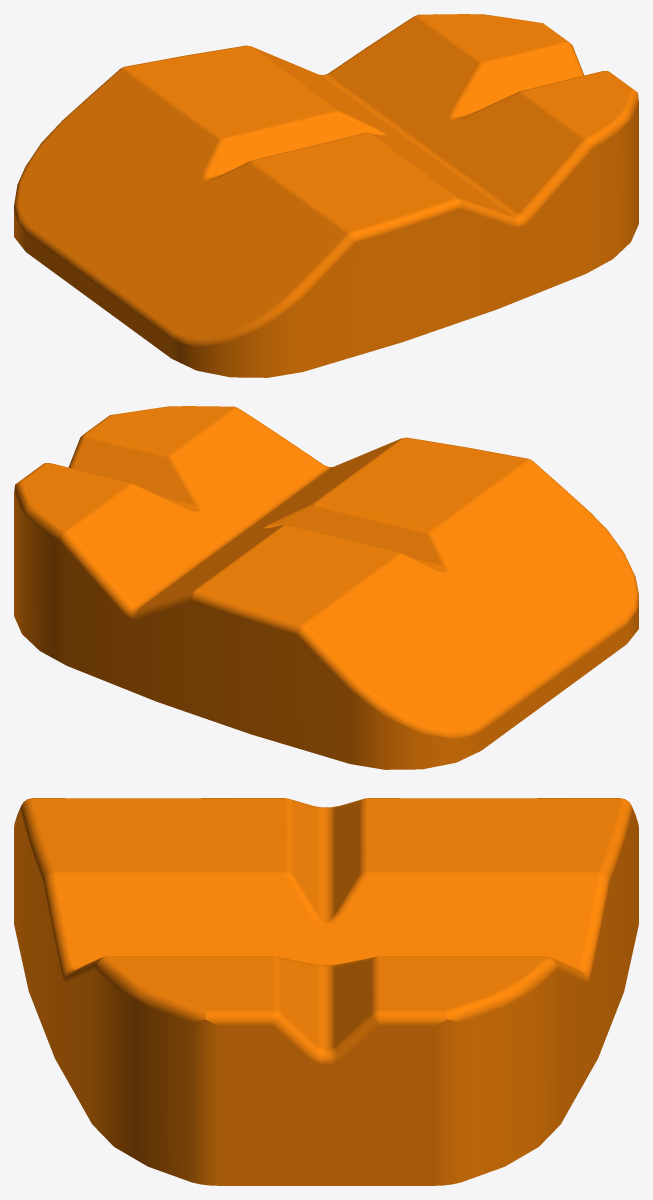
The model's file is Tip_Support_2.obj.
The picture shows the model from 3 angles, top to bottom: view 1: azimuth 30°, elevation 25°; view 2: azimuth 150°, elevation 25°; view 3: azimuth 270°, elevation 25°; orthographic projection. The views are drawn at different scales.
Parts seen in each view (by area): view 1: Body1; view 2: Body1; view 3: Body1.
Part boxes in pixels (x1,y1,x2,y2): Body1: [14, 14, 638, 377]; Body1: [14, 406, 638, 769]; Body1: [14, 798, 638, 1185].
Bounding box in the file's own units: 30.75 × 7.75 × 25.7.
